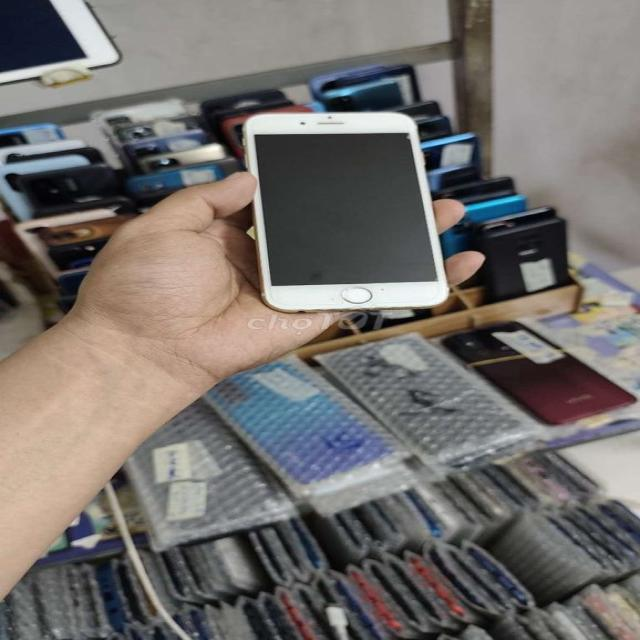gen_6: (244, 112, 447, 312)
